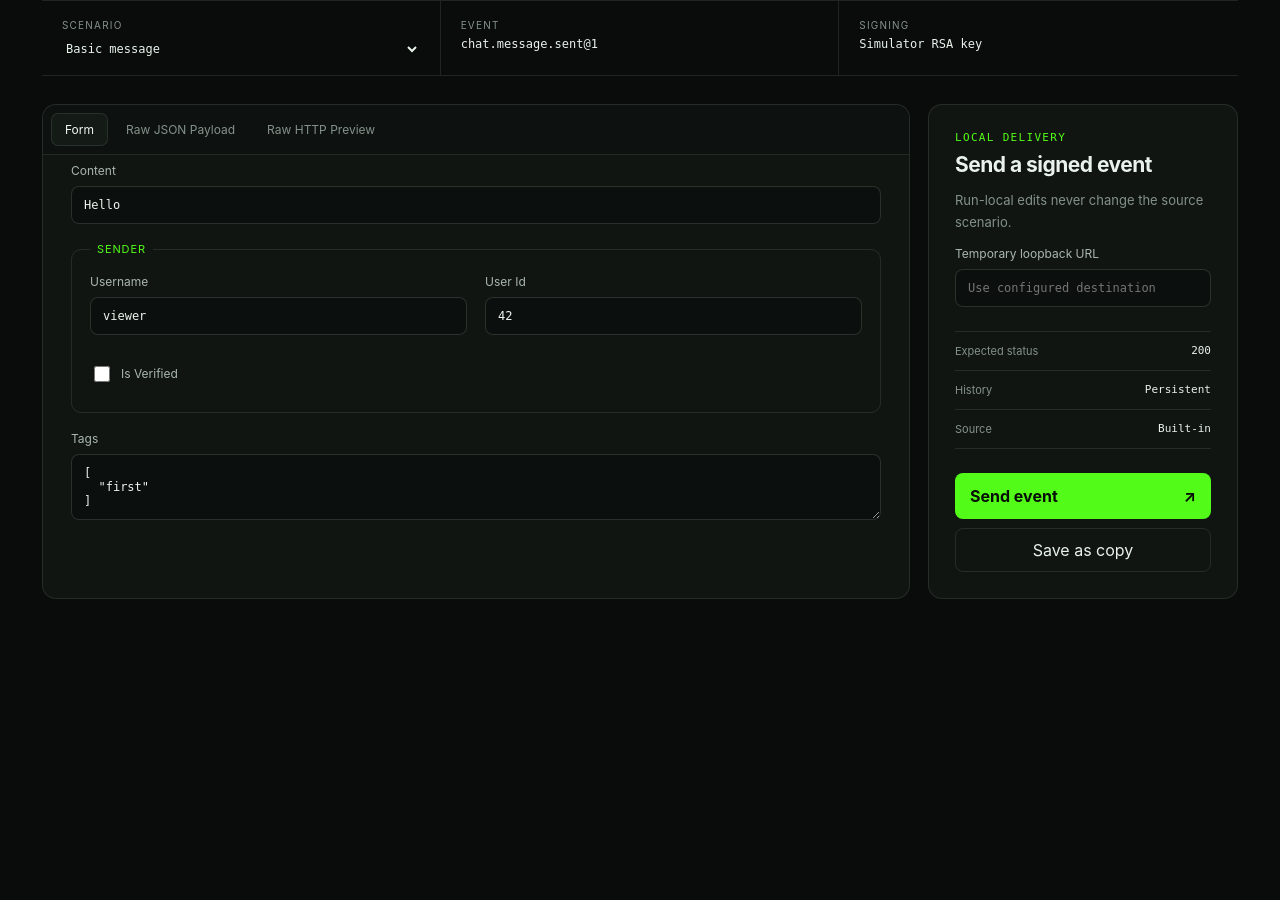
Test: event builder request state › keeps the save confirmation after the copied scenario loads
Click the button "Save as copy" at (1083,550), box [955,528,1211,572]
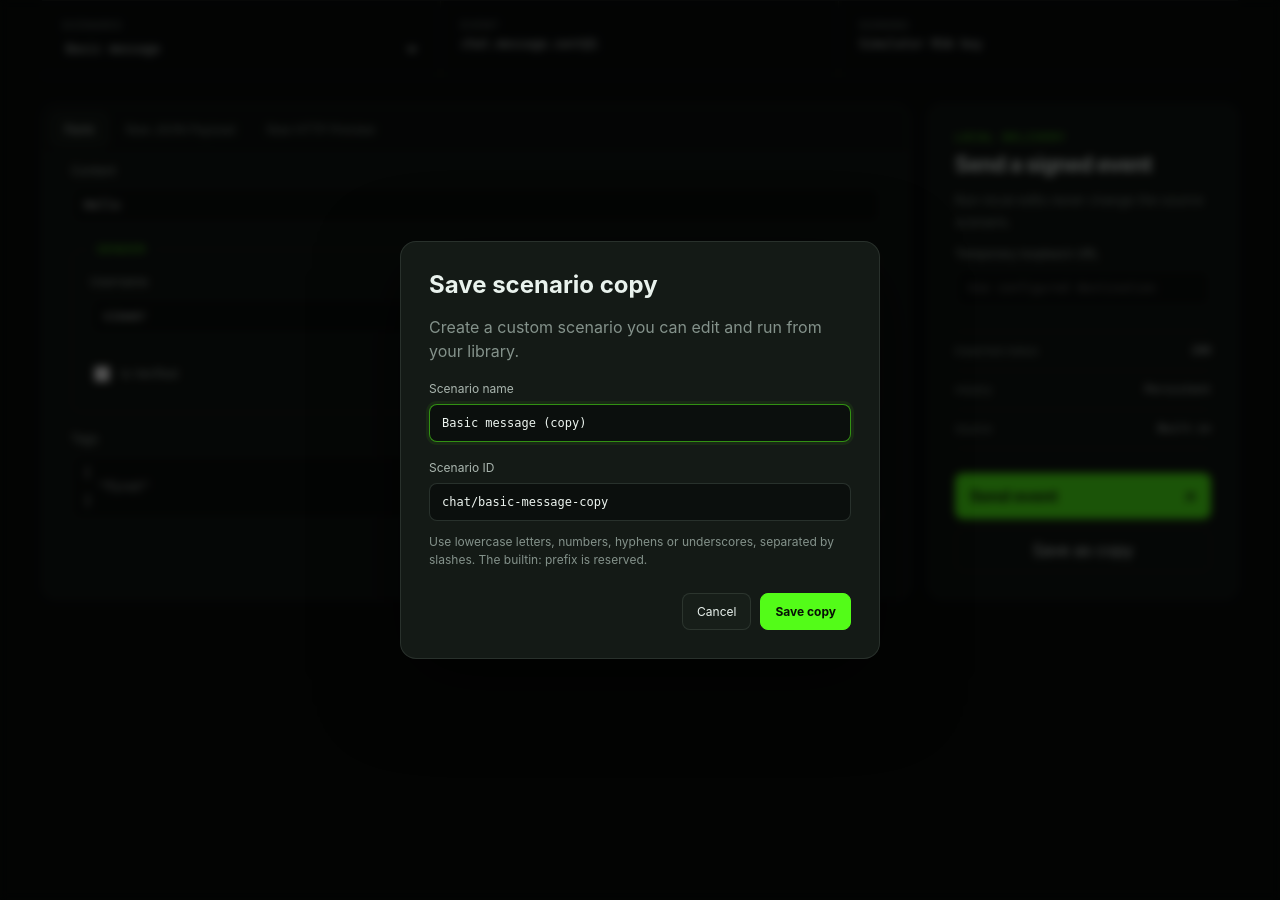
Result: the field labelled "Scenario ID" holds "chat/basic-message-copy"
Replace the text in the field labelled "Scenario ID" with "stable/basic-message" at (640,502), box [429,483,851,521]
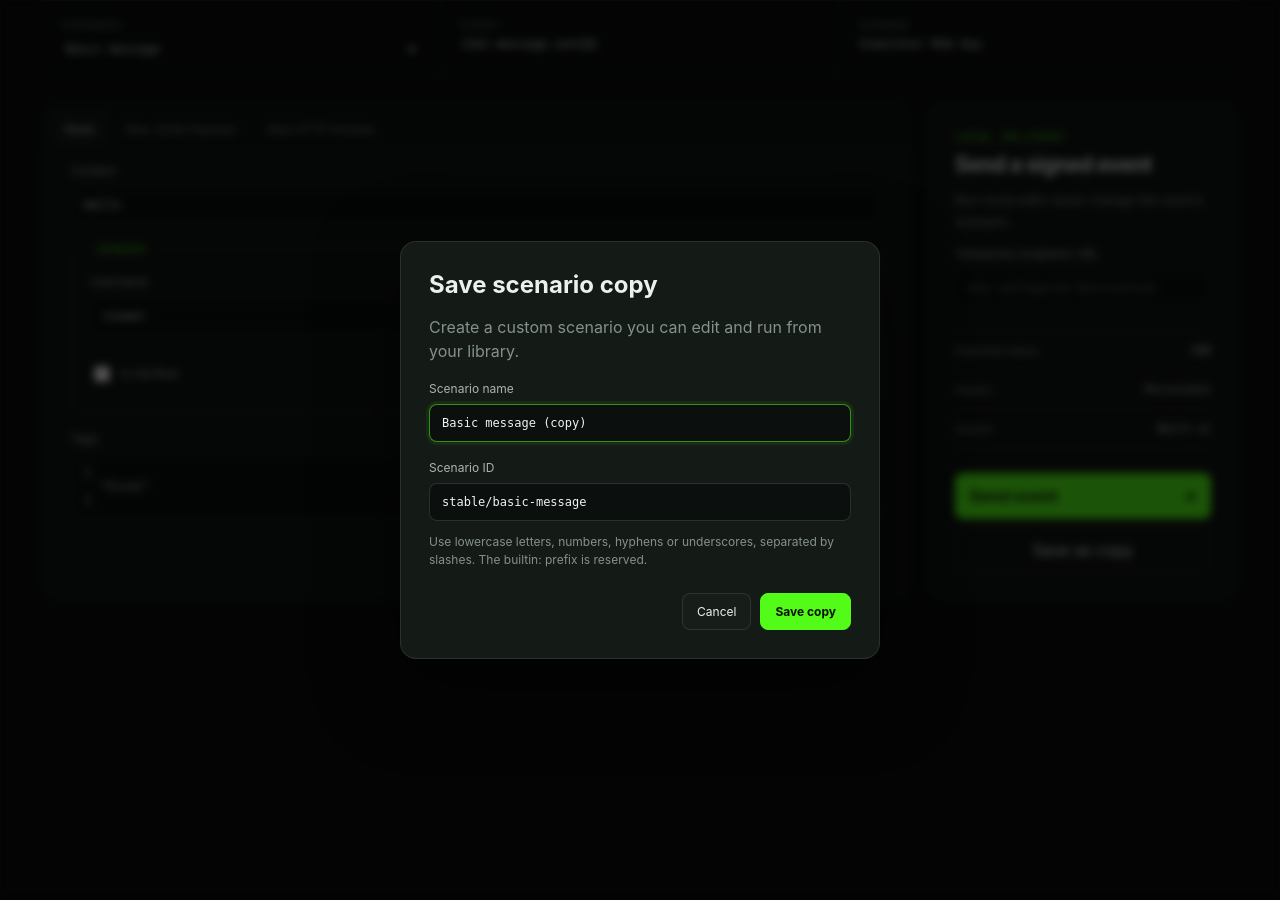
Replace the text in the field labelled "Scenario name" with "Saved copy" at (640,423), box [429,404,851,442]
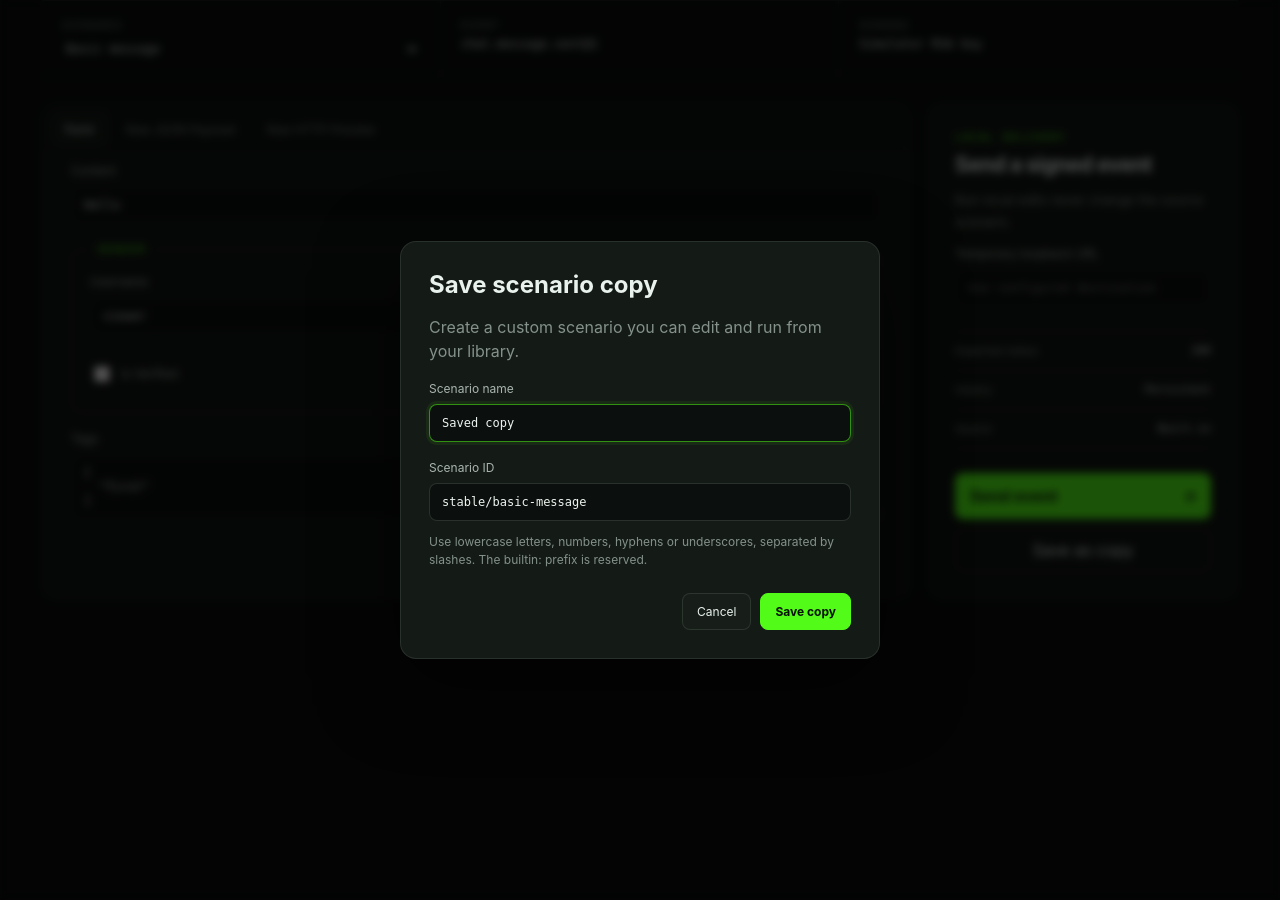
Click the button "Save copy" at (806,612), box [760,593,851,630]
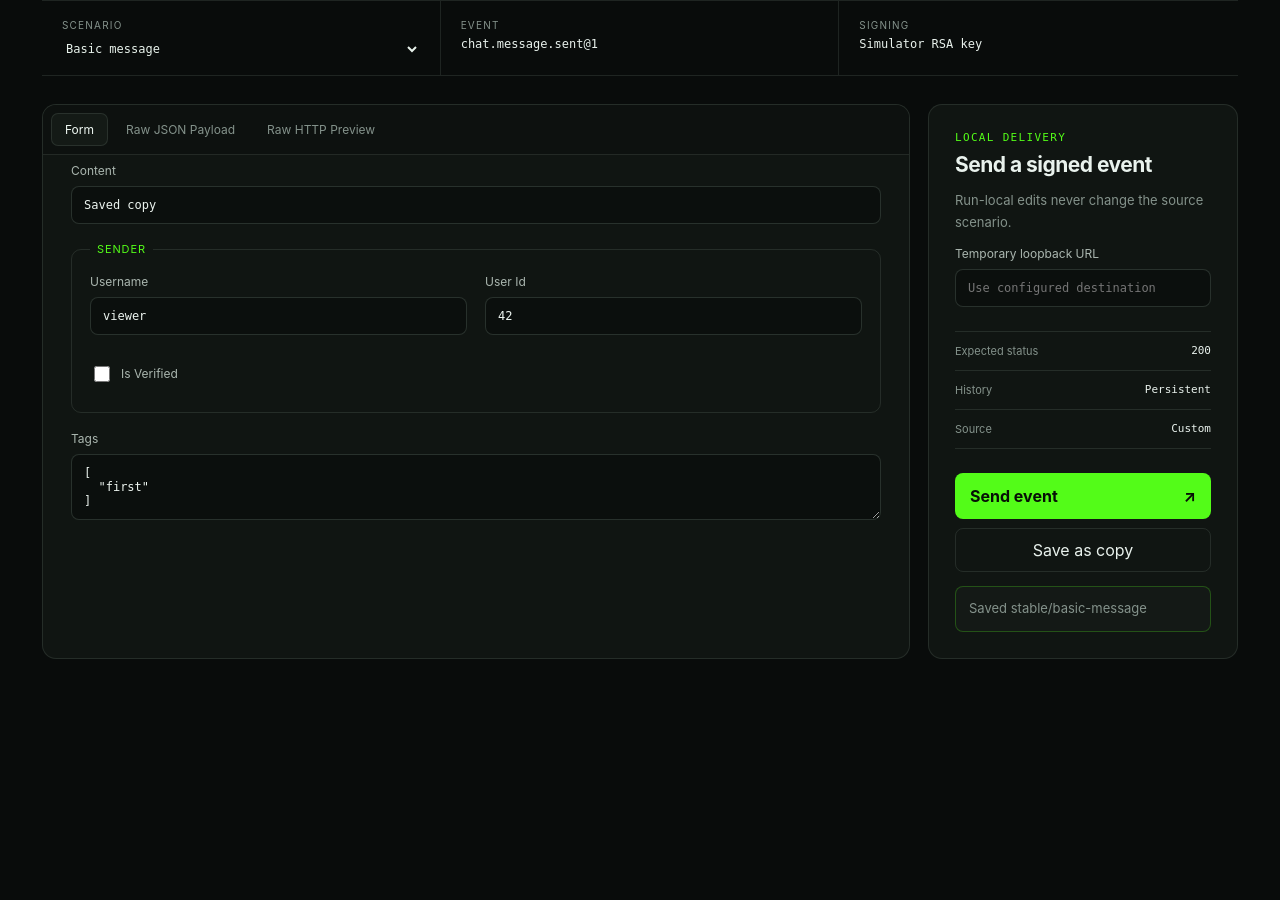
Expected: the dropdown named "Scenario" shows "Basic message", [62,41,420,57]
Result: the field labelled "Content" holds "Saved copy" at [71,186,881,224]
